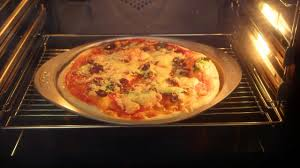pizza: (64, 44, 216, 121)
